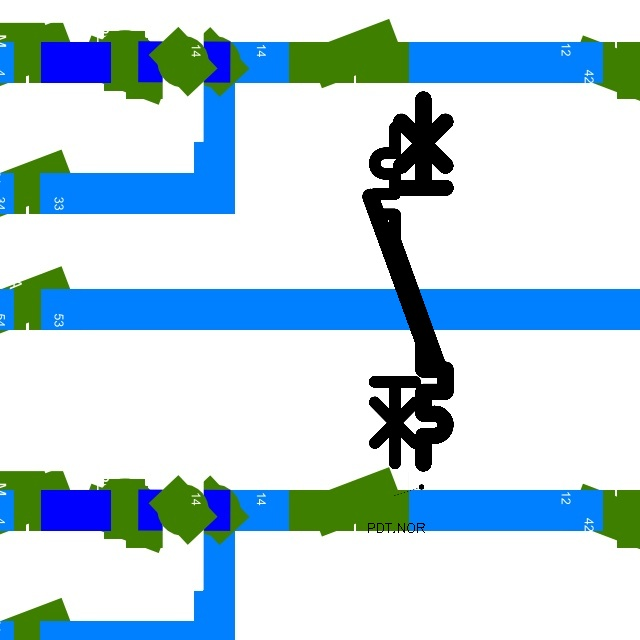interruptor_termomagnetico: (361, 90, 455, 473), (366, 119, 452, 472)
